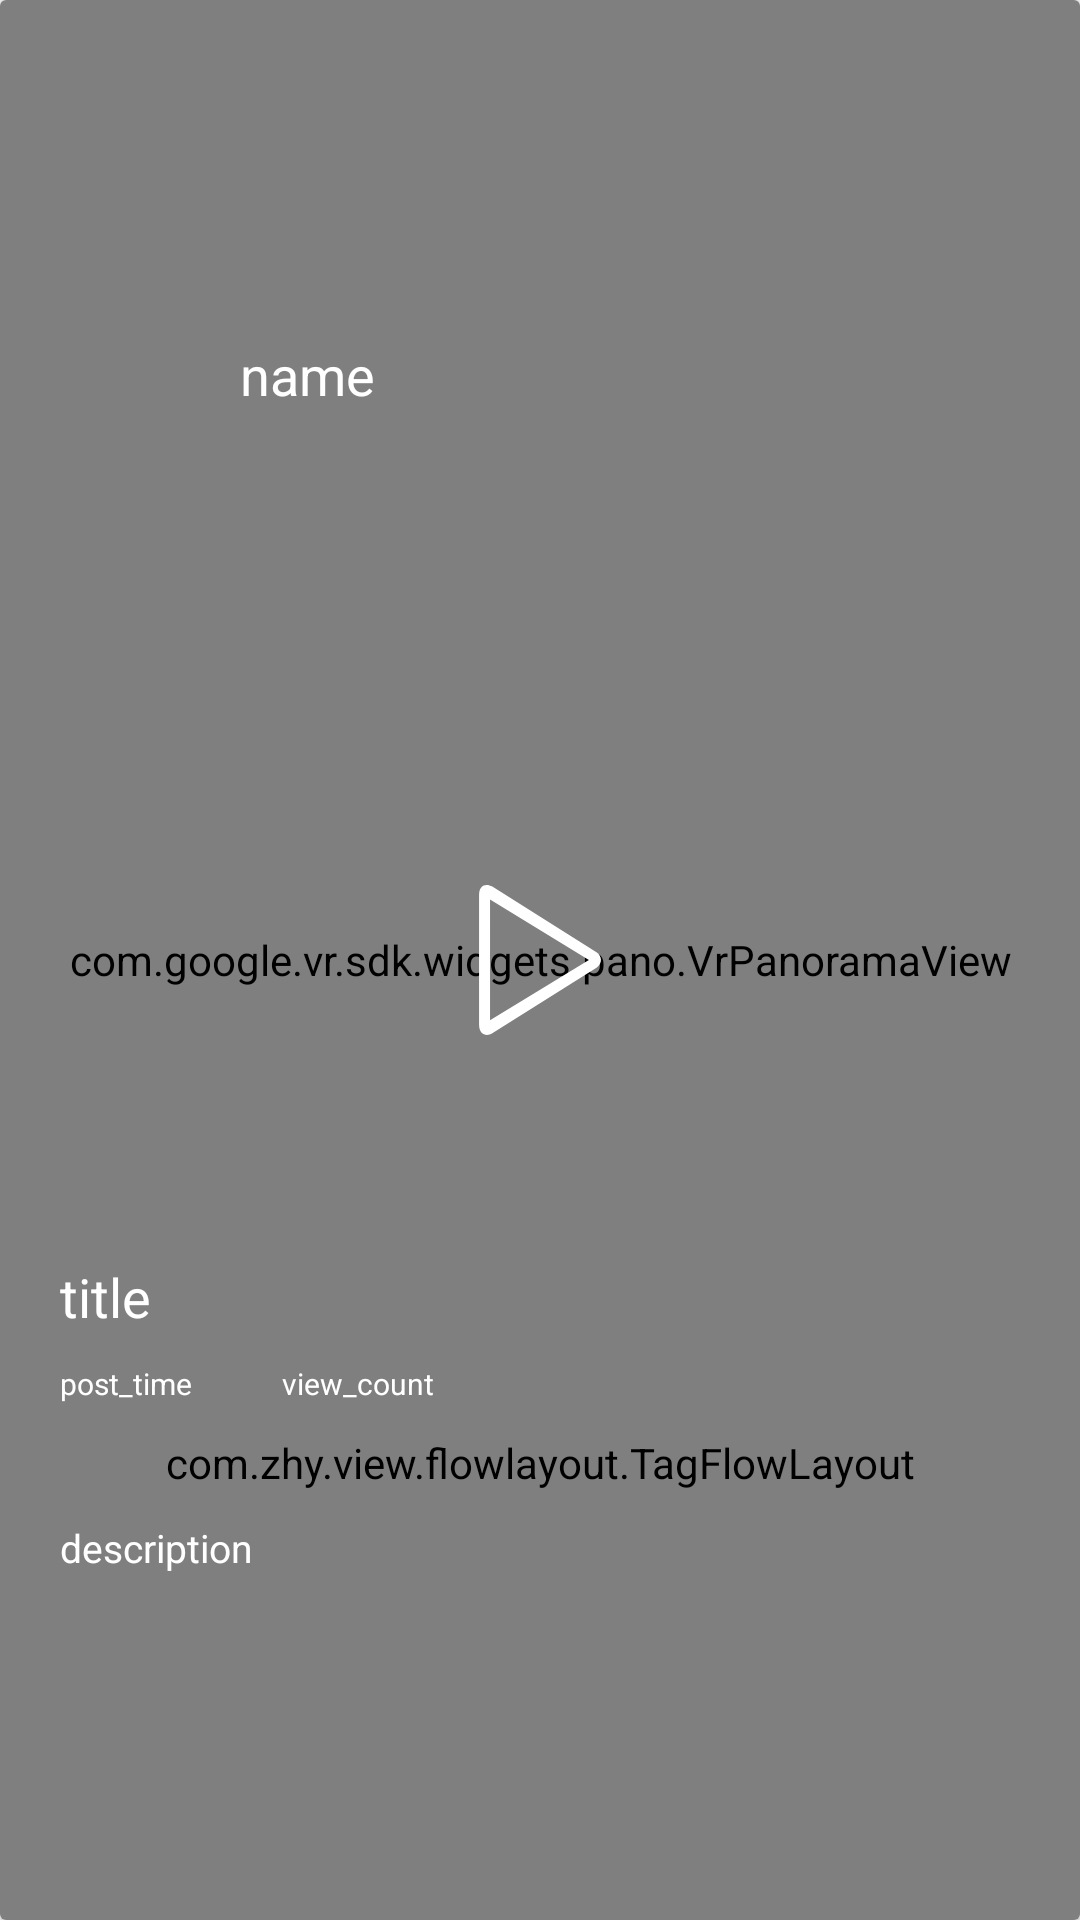

Icons on this 1080 x 1920 Android screen, each with its box as (x1, y1, x2, y2):
play vr: (467, 885, 604, 1035)
